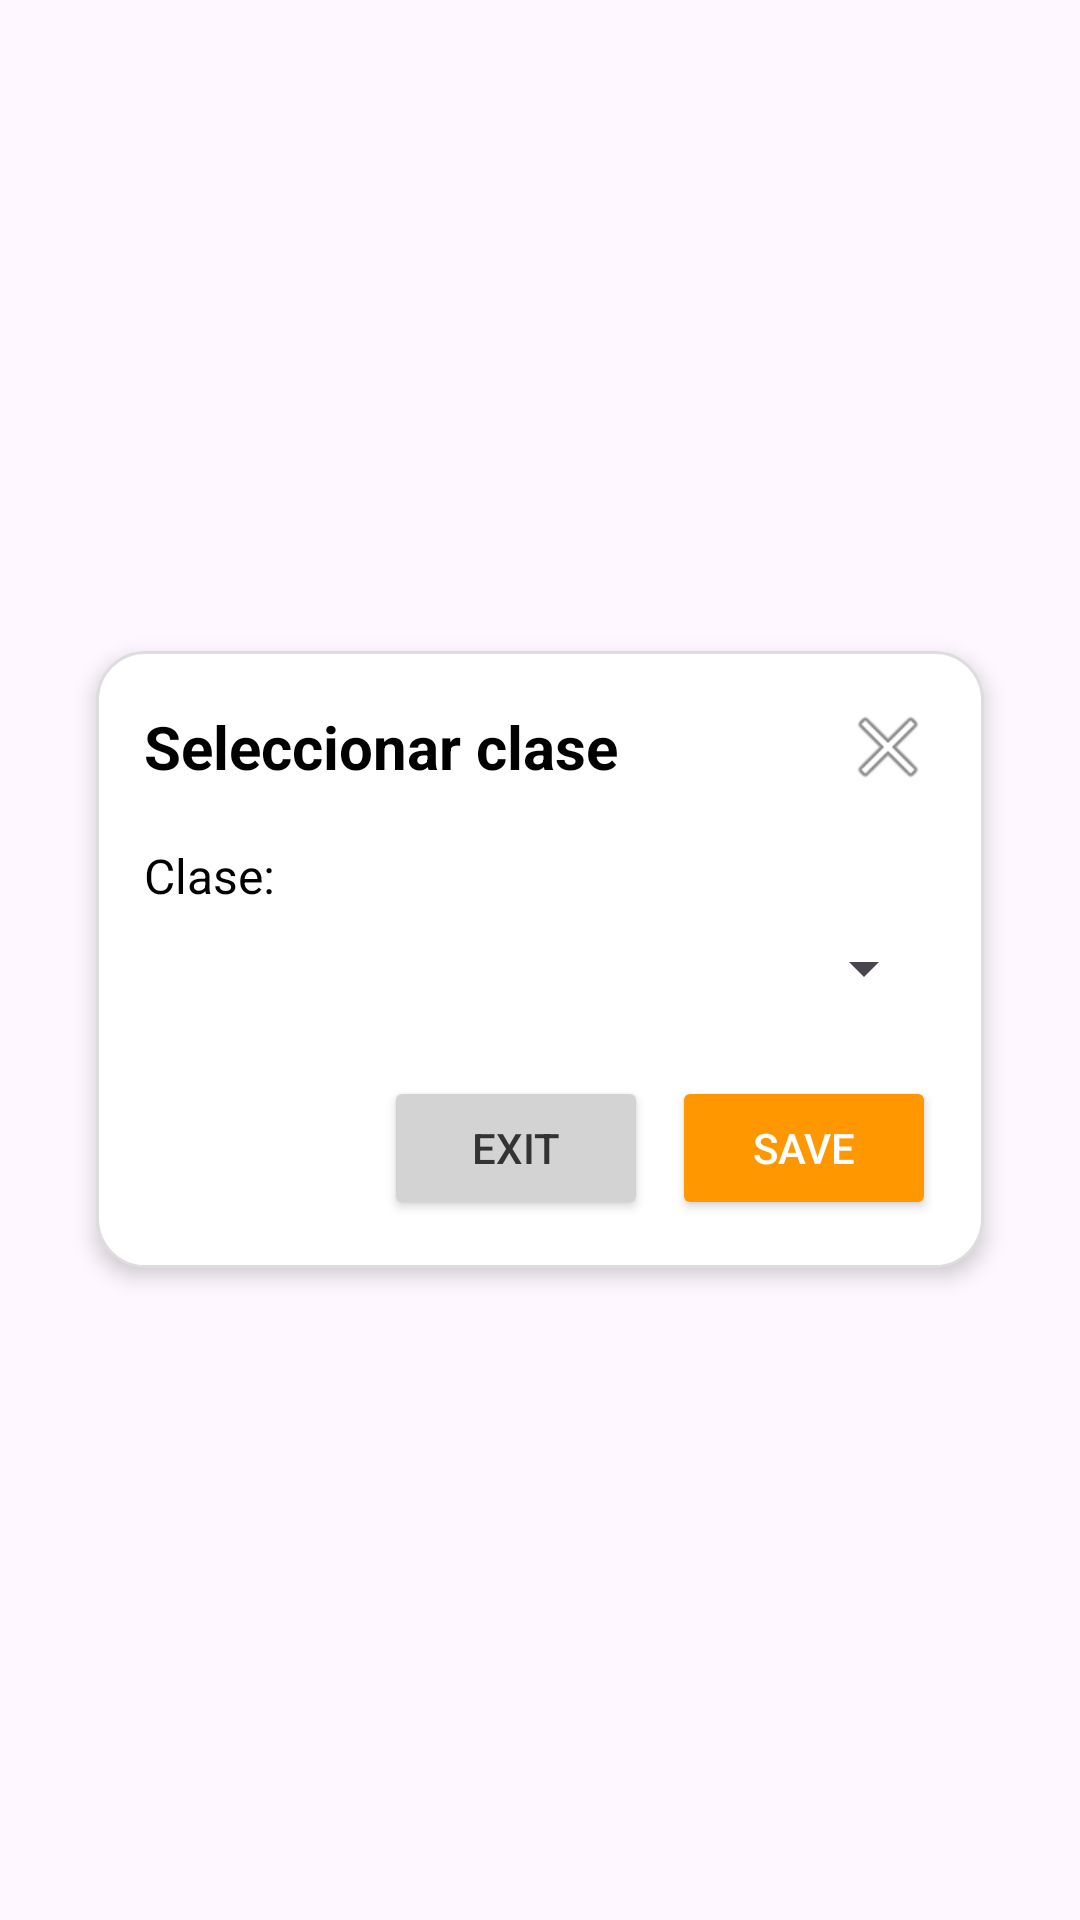

Named icons in this screenshot (1080*1920) and their bounding boxes, (x1, y1, x2, y2):
close clear cancel: (858, 717, 918, 777)
